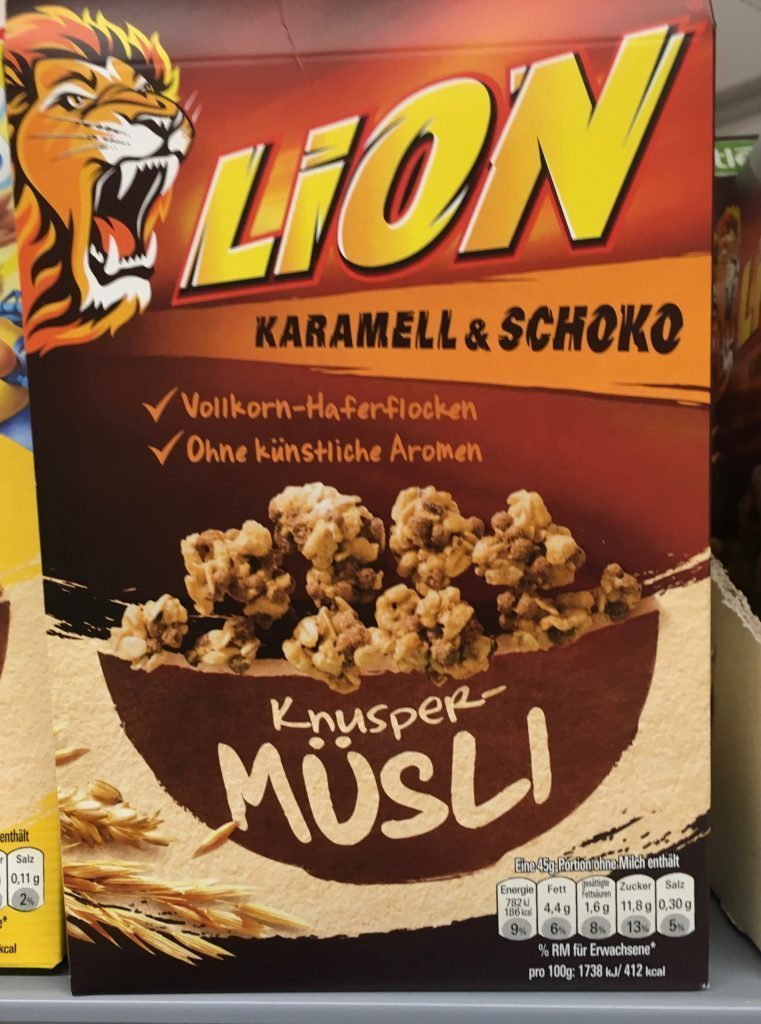cereals: (6, 1, 717, 994)
